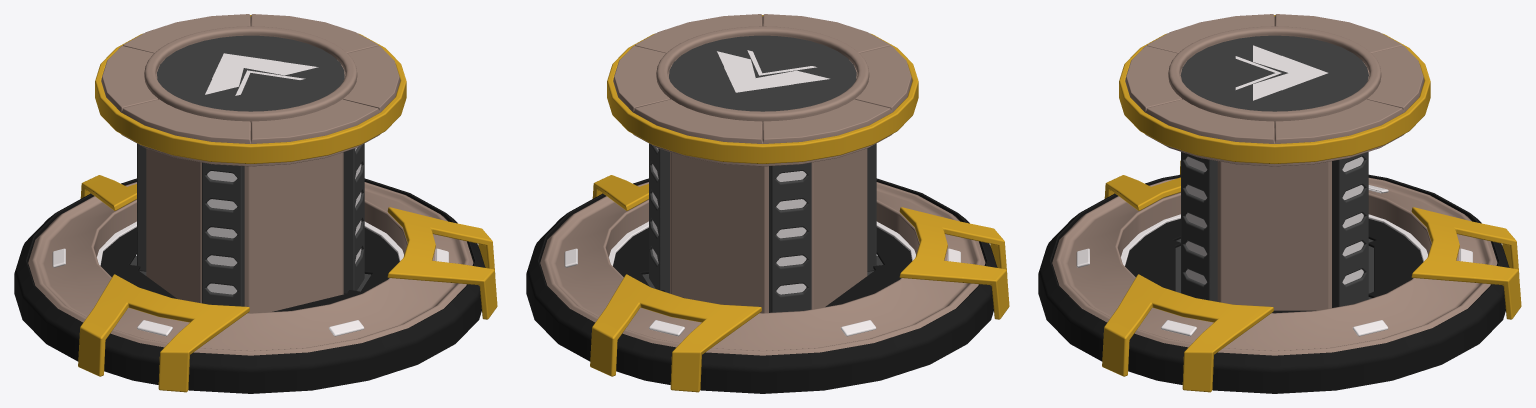
File: JumpPad.fbx
The picture shows the model from 3 angles, left to right: view 1: azimuth 30°, elevation 25°; view 2: azimuth 150°, elevation 25°; view 3: azimuth 270°, elevation 25°; orthographic projection.
Parts seen in each view (by area): view 1: Piston Body, Ring glass, Base Outer Ring, Piston Top, Fin, Circle, Piston Drive Towers, Piston Trim, Piston Crown, Piston Seal, Piston Inlay Glow, Arrow Single (+3 smaller); view 2: Ring glass, Piston Body, Base Outer Ring, Piston Top, Fin, Circle, Piston Drive Towers, Piston Trim, Piston Crown, Piston Seal, Piston Inlay Glow, Arrow Single (+3 smaller); view 3: Ring glass, Base Outer Ring, Piston Body, Piston Top, Fin, Circle, Piston Drive Towers, Piston Trim, Piston Seal, Piston Crown, Piston Inlay Glow, Arrow Single (+4 smaller).
Part boxes in pixels (<box>): Piston Body: <box>146,148,343,313</box>; Ring glass: <box>28,182,473,355</box>; Base Outer Ring: <box>14,178,485,393</box>; Piston Top: <box>101,14,400,166</box>; Fin: <box>78,175,497,392</box>; Circle: <box>157,35,344,111</box>; Piston Drive Towers: <box>137,143,364,306</box>; Piston Trim: <box>95,15,406,163</box>; Piston Crown: <box>144,26,357,122</box>; Piston Seal: <box>100,227,399,311</box>; Piston Inlay Glow: <box>207,147,361,294</box>; Arrow Single: <box>205,55,318,94</box>; Ring glass: <box>540,182,985,355</box>; Piston Body: <box>670,148,867,313</box>; Base Outer Ring: <box>526,178,997,393</box>; Piston Top: <box>613,14,912,166</box>; Fin: <box>590,175,1009,392</box>; Circle: <box>669,35,856,111</box>; Piston Drive Towers: <box>649,143,876,312</box>; Piston Trim: <box>607,15,918,163</box>; Piston Crown: <box>656,26,869,122</box>; Piston Seal: <box>613,227,911,306</box>; Piston Inlay Glow: <box>652,147,806,294</box>; Arrow Single: <box>717,51,829,90</box>; Ring glass: <box>1052,177,1497,355</box>; Base Outer Ring: <box>1038,174,1509,393</box>; Piston Body: <box>1217,161,1331,310</box>; Piston Top: <box>1125,14,1424,166</box>; Fin: <box>1102,160,1521,392</box>; Circle: <box>1180,35,1368,111</box>; Piston Drive Towers: <box>1181,152,1368,307</box>; Piston Trim: <box>1119,15,1430,163</box>; Piston Seal: <box>1125,218,1422,313</box>; Piston Crown: <box>1168,26,1381,122</box>; Piston Inlay Glow: <box>1186,156,1363,284</box>; Arrow Single: <box>1253,45,1321,100</box>.
Bounding box in the file's own units: 1.8 × 1.84 × 0.9404.
